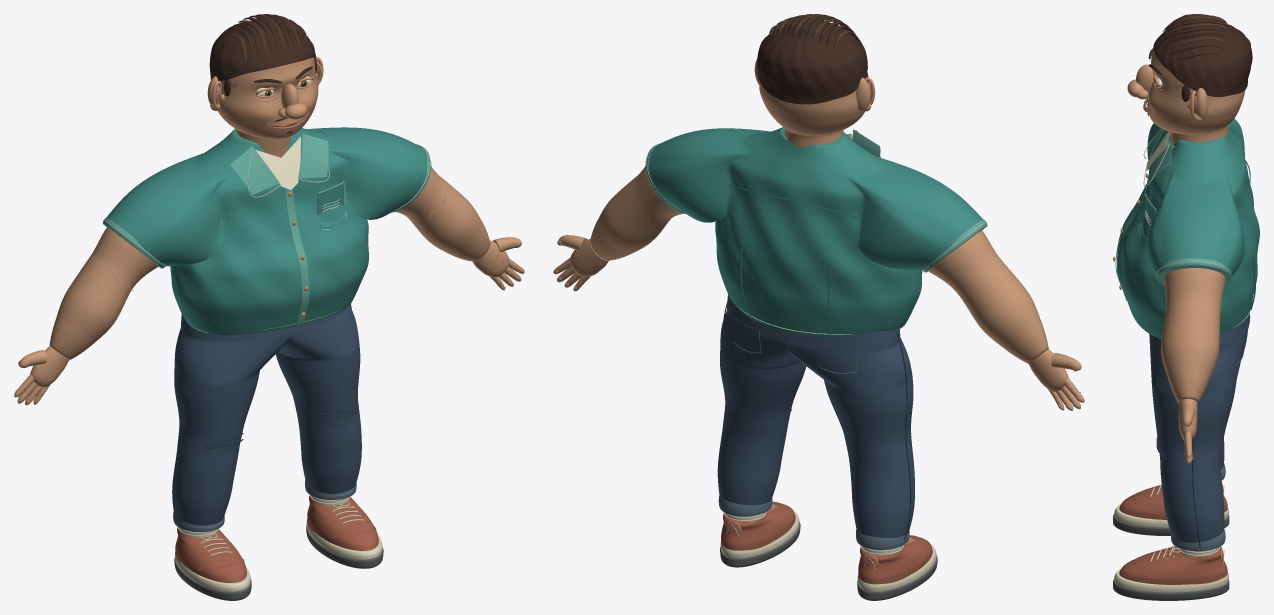
File: ivo-renn-sol.glb
3 renders of one model, left to right at view 1: azimuth 30°, elevation 25°; view 2: azimuth 150°, elevation 25°; view 3: azimuth 270°, elevation 25°, orthographic. The views are drawn at different scales.
Parts seen in each view (by area): view 1: Clothing · continuous camp shirt and sleeves, Clothing · continuous tailored trousers, Anatomy · R arm, Anatomy · sculpted head, Anatomy · L arm, Hair · continuous scalp, Footwear · L brick leather upper, Footwear · R brick leather upper, Clothing · R turned collar, Clothing · L turned collar, Clothing · oat neckline insert, Clothing · front button placket (+7 smaller); view 2: Clothing · continuous camp shirt and sleeves, Clothing · continuous tailored trousers, Anatomy · R arm, Hair · continuous scalp, Anatomy · L arm, Anatomy · sculpted head, Footwear · L brick leather upper, Footwear · R brick leather upper, Clothing · R rear trouser pocket, Anatomy · R palm, Anatomy · L palm, Footwear · R rubber outsole (+3 smaller); view 3: Clothing · continuous camp shirt and sleeves, Clothing · continuous tailored trousers, Anatomy · L arm, Hair · continuous scalp, Anatomy · sculpted head, Footwear · L brick leather upper, Footwear · R brick leather upper, Footwear · L rubber outsole, Footwear · L cream foxing, Clothing · L rolled sleeve cuff, Footwear · R rubber outsole, Footwear · R cream foxing (+11 smaller).
Boxes of the visible parts, x1=… form: Clothing · continuous camp shirt and sleeves: x1=107, y1=127, x2=427, y2=335; Clothing · continuous tailored trousers: x1=172, y1=305, x2=361, y2=525; Anatomy · R arm: x1=49, y1=227, x2=158, y2=360; Anatomy · sculpted head: x1=218, y1=57, x2=318, y2=139; Anatomy · L arm: x1=395, y1=167, x2=490, y2=261; Hair · continuous scalp: x1=209, y1=17, x2=316, y2=80; Footwear · L brick leather upper: x1=307, y1=496, x2=378, y2=550; Footwear · R brick leather upper: x1=175, y1=528, x2=246, y2=582; Clothing · R turned collar: x1=230, y1=146, x2=279, y2=194; Clothing · L turned collar: x1=298, y1=134, x2=328, y2=178; Clothing · oat neckline insert: x1=255, y1=136, x2=300, y2=189; Clothing · front button placket: x1=285, y1=188, x2=309, y2=324; Clothing · continuous camp shirt and sleeves: x1=649, y1=127, x2=982, y2=337; Clothing · continuous tailored trousers: x1=717, y1=294, x2=914, y2=537; Anatomy · R arm: x1=928, y1=230, x2=1048, y2=363; Hair · continuous scalp: x1=757, y1=17, x2=867, y2=104; Anatomy · L arm: x1=590, y1=166, x2=683, y2=260; Anatomy · sculpted head: x1=759, y1=81, x2=864, y2=136; Footwear · L brick leather upper: x1=721, y1=502, x2=795, y2=550; Footwear · R brick leather upper: x1=858, y1=535, x2=932, y2=584; Clothing · R rear trouser pocket: x1=818, y1=345, x2=856, y2=372; Anatomy · R palm: x1=1028, y1=349, x2=1068, y2=391; Anatomy · L palm: x1=570, y1=239, x2=608, y2=277; Footwear · R rubber outsole: x1=857, y1=555, x2=937, y2=600; Clothing · continuous camp shirt and sleeves: x1=1117, y1=119, x2=1259, y2=339; Clothing · continuous tailored trousers: x1=1149, y1=313, x2=1250, y2=542; Anatomy · L arm: x1=1161, y1=268, x2=1225, y2=404; Hair · continuous scalp: x1=1153, y1=20, x2=1252, y2=97; Anatomy · sculpted head: x1=1147, y1=51, x2=1245, y2=134; Footwear · L brick leather upper: x1=1119, y1=546, x2=1227, y2=584; Footwear · R brick leather upper: x1=1119, y1=485, x2=1227, y2=519; Footwear · L rubber outsole: x1=1113, y1=579, x2=1229, y2=600; Footwear · L cream foxing: x1=1114, y1=568, x2=1229, y2=592; Clothing · L rolled sleeve cuff: x1=1156, y1=258, x2=1231, y2=285; Footwear · R rubber outsole: x1=1113, y1=514, x2=1229, y2=535; Footwear · R cream foxing: x1=1114, y1=503, x2=1228, y2=527.
Size of the model in its own units: 2.18 by 2.17 by 0.5379.
